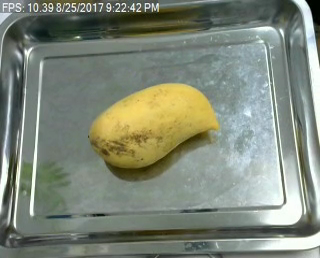Mango: (85, 82, 219, 171)
